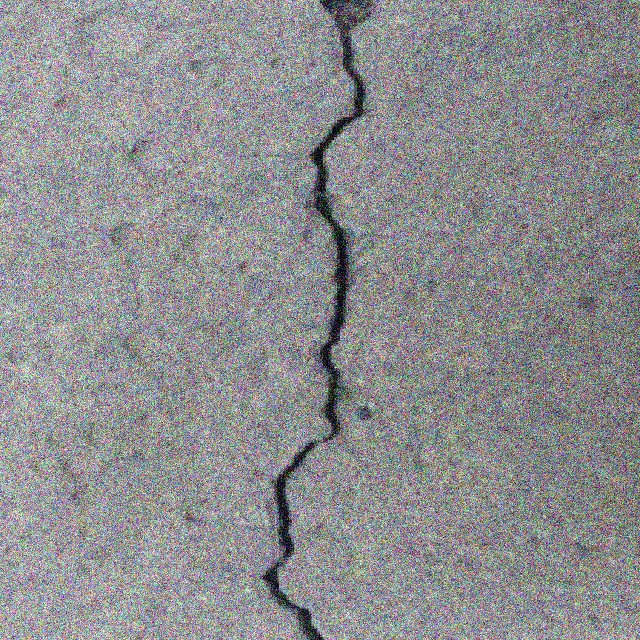SurfaceCrack: (262, 0, 386, 640)
